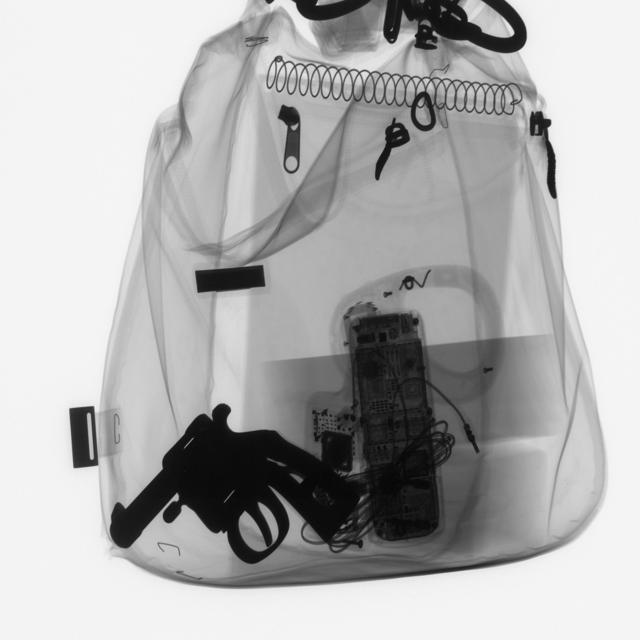gun: (110, 409, 368, 567)
